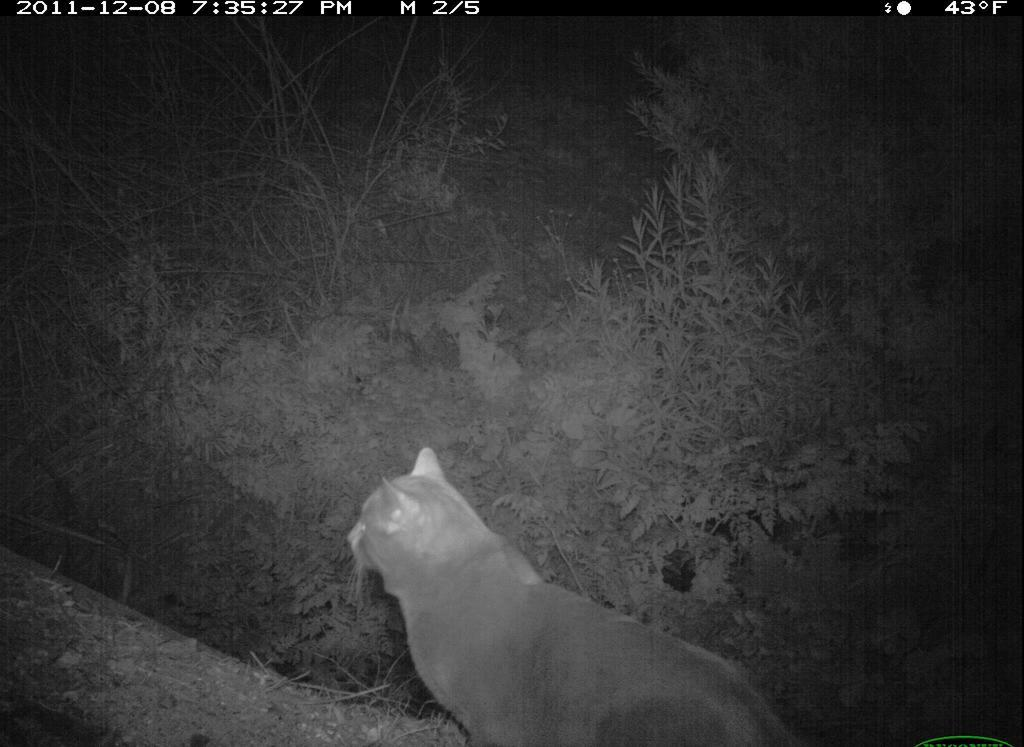cat: (342, 440, 831, 747)
